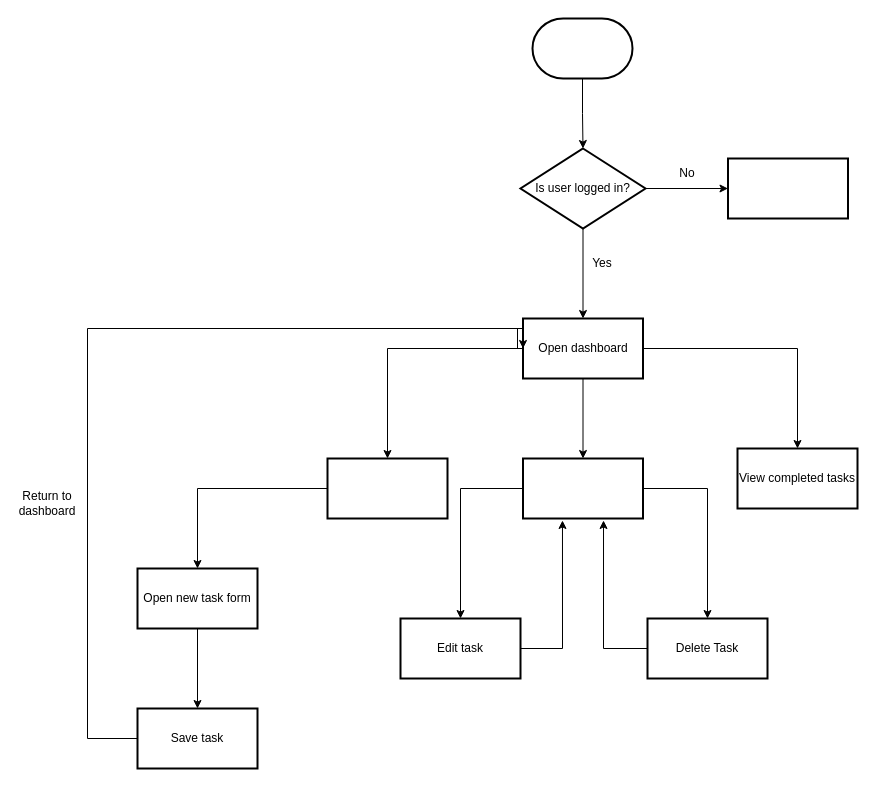
The diagram is 875 pixels wide and 786 high, and some of its shapes have lost their labels. The centre of each missing label's shape, as x and y in pixels:
Create new task: point (387, 488)
open login/signup form: point (787, 188)
Open web app: point (582, 48)
View pending tasks: point (583, 488)
